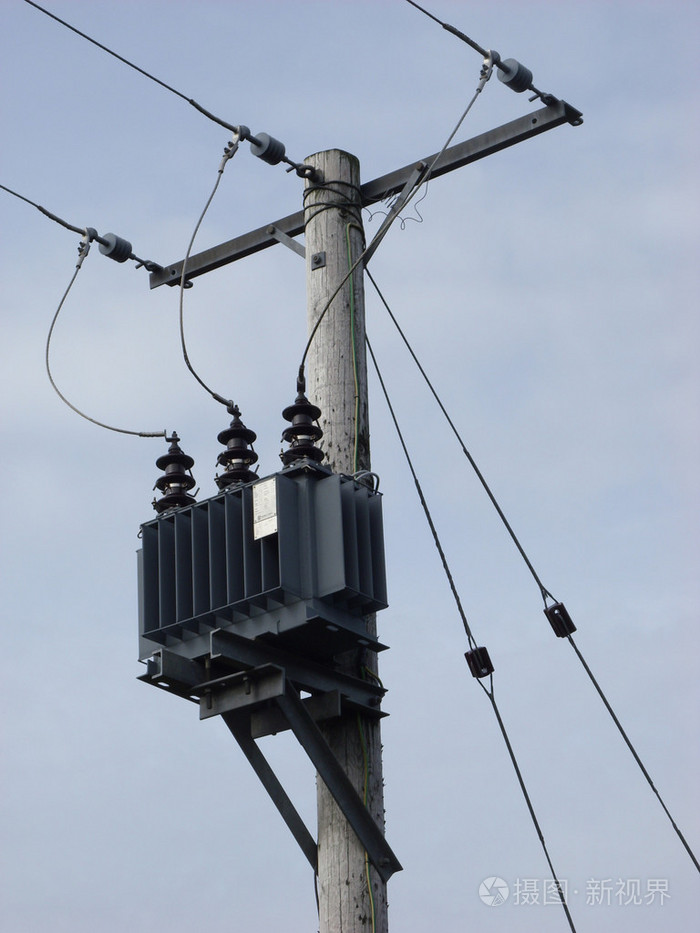insulator: (279, 402, 326, 462), (149, 452, 199, 508), (216, 426, 259, 486)
